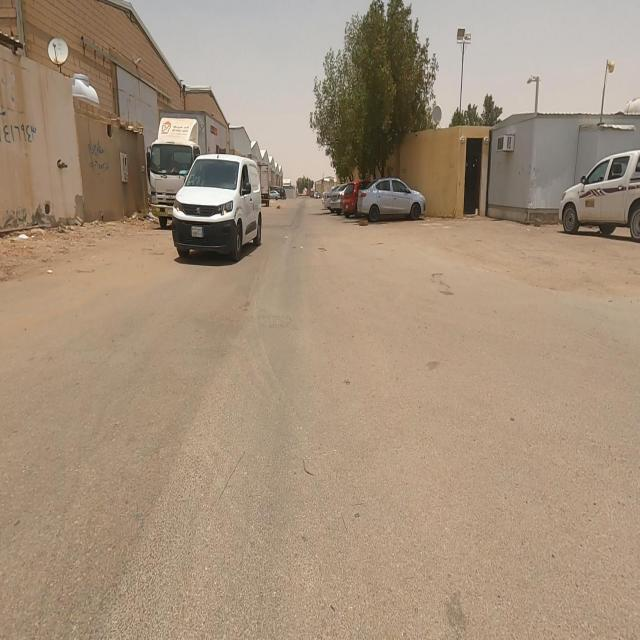debris: (0, 76, 80, 200), (58, 114, 136, 202), (4, 200, 45, 274)
